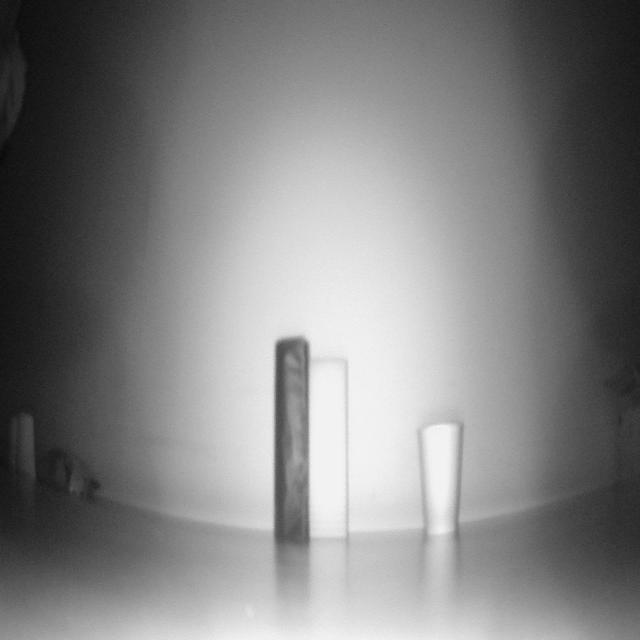targets: (306, 358, 350, 546), (274, 338, 310, 545), (420, 419, 467, 541), (44, 446, 102, 510), (8, 409, 38, 480)
